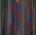No Stopping: (2, 0, 35, 33)
